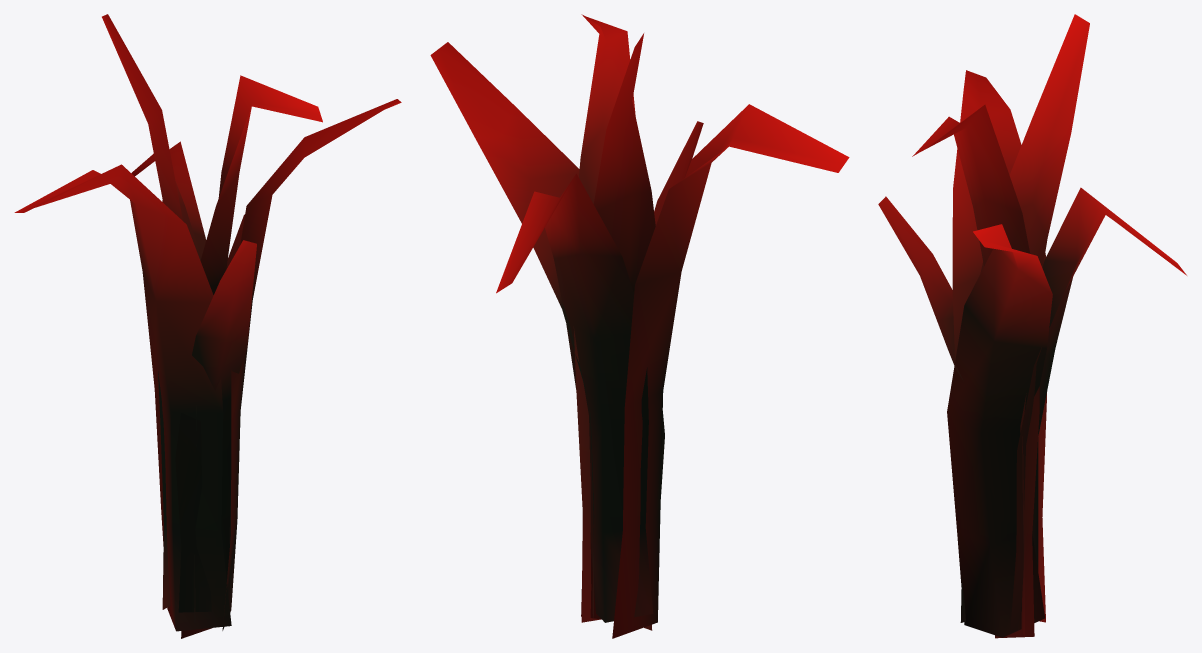
File: SM_CornPlant_3.fbx
3 views of the same model, side by side, from view 1: azimuth 30°, elevation 25°; view 2: azimuth 150°, elevation 25°; view 3: azimuth 270°, elevation 25° (orthographic). The views are drawn at different scales.
Visible parts, largest first — view 1: SM_CornPlant_3; view 2: SM_CornPlant_3; view 3: SM_CornPlant_3.
Part boxes in pixels (x1,y1,x2,y2): SM_CornPlant_3: (14, 14, 401, 638); SM_CornPlant_3: (430, 14, 849, 638); SM_CornPlant_3: (878, 14, 1186, 638).
Size of the model in its own units: 0.1576 by 0.2349 by 0.1107.
